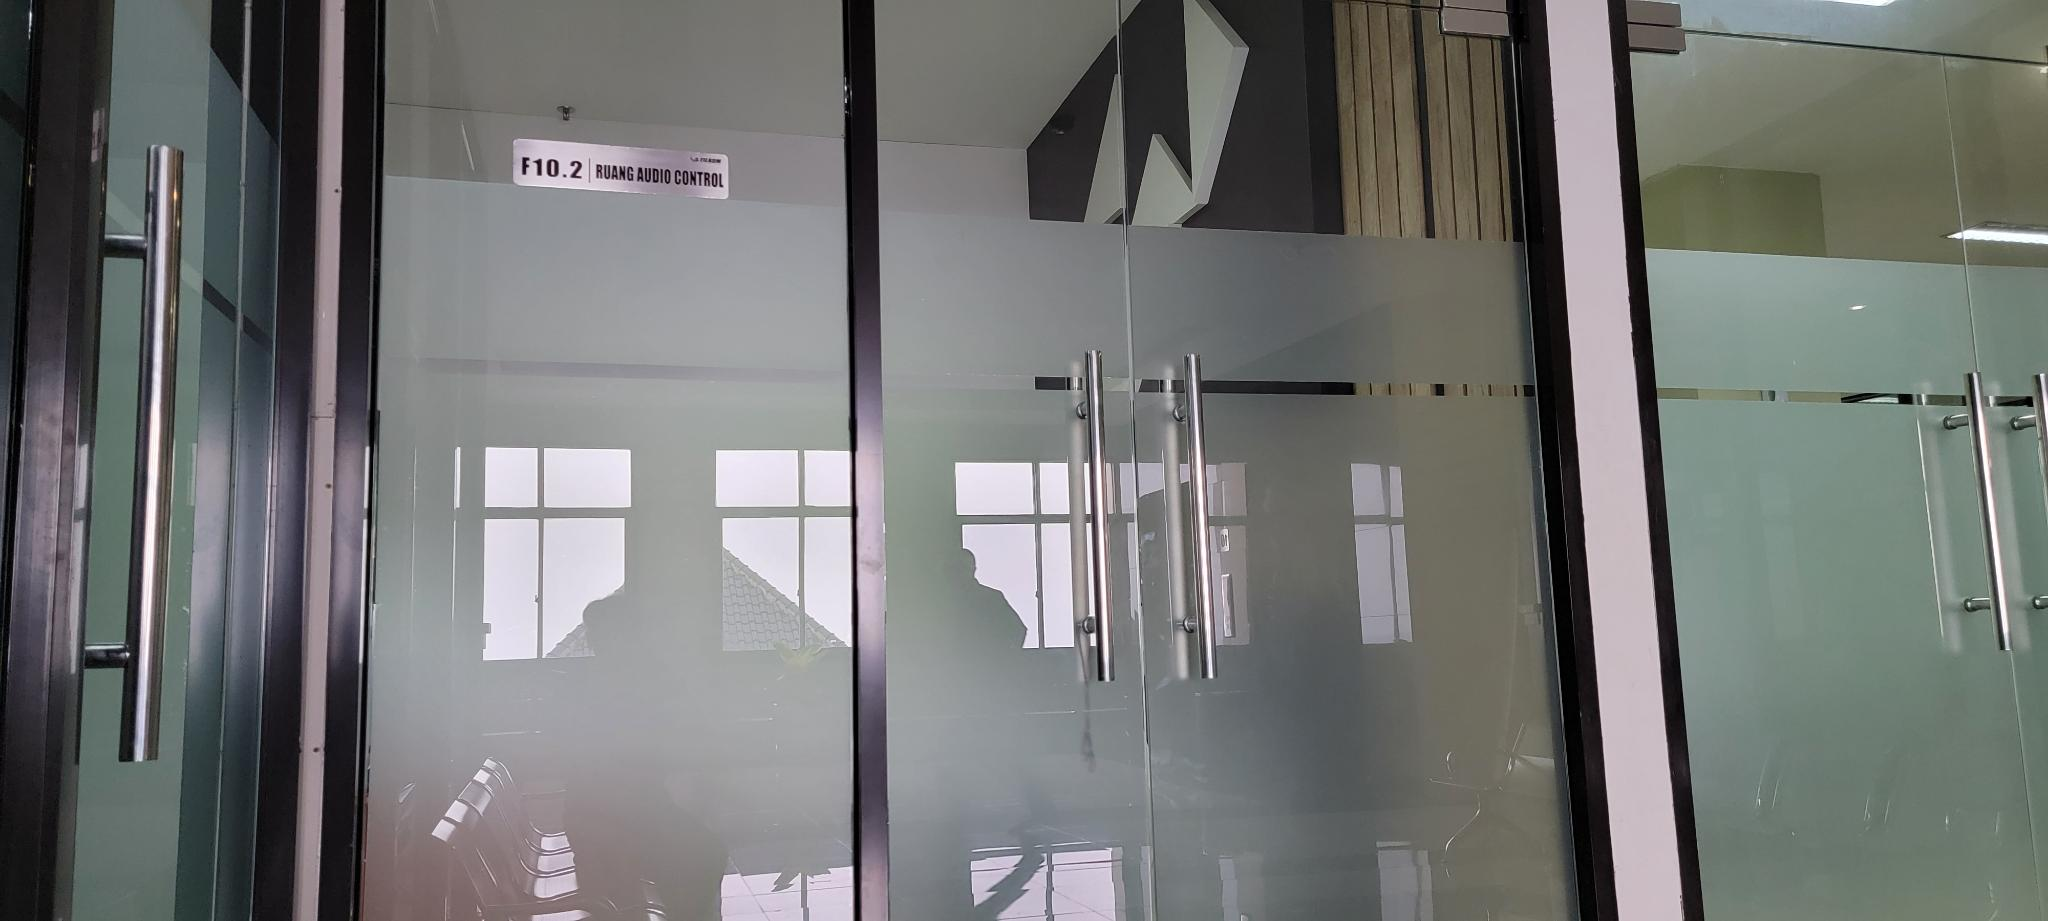plate: (512, 136, 730, 201)
